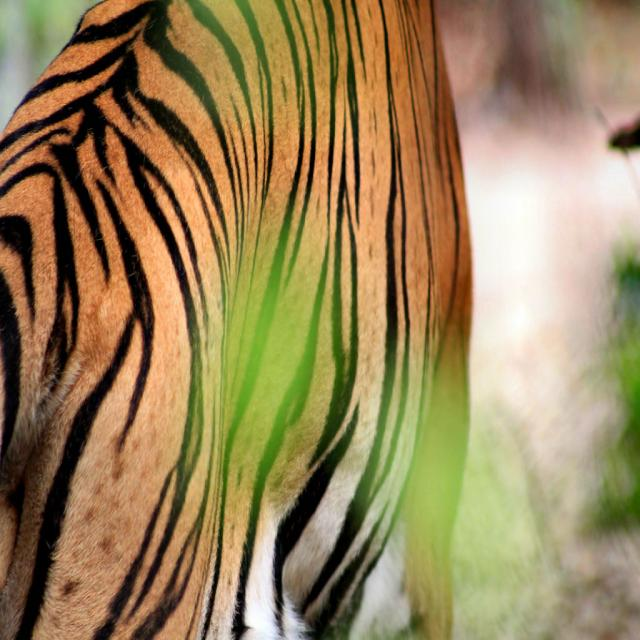Tiger: (0, 0, 475, 639)
